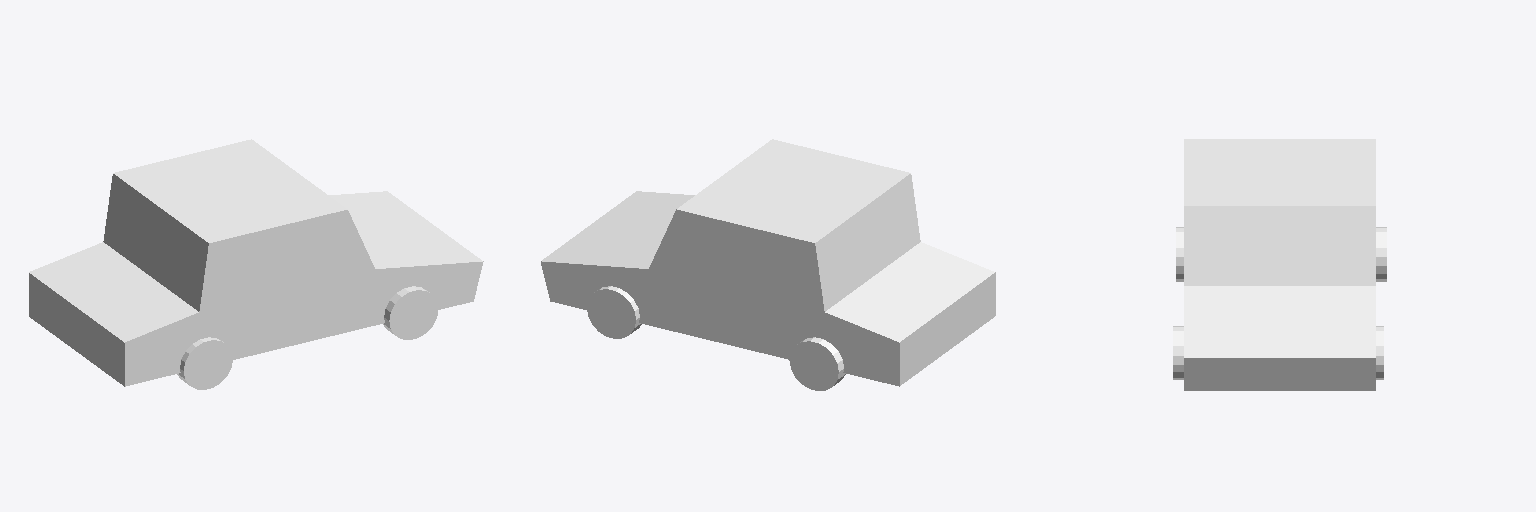
File: Car6.obj
3 renders of one model, left to right at view 1: azimuth 30°, elevation 25°; view 2: azimuth 150°, elevation 25°; view 3: azimuth 270°, elevation 25°, orthographic.
Visible parts, largest first — view 1: Car_06; view 2: Car_06; view 3: Car_06.
Part boxes in pixels (x1,y1,x2,y2): Car_06: (29,139,483,389); Car_06: (541,139,995,390); Car_06: (1173,139,1386,390).
Size of the model in its own units: 76.54 by 28.93 by 39.39.